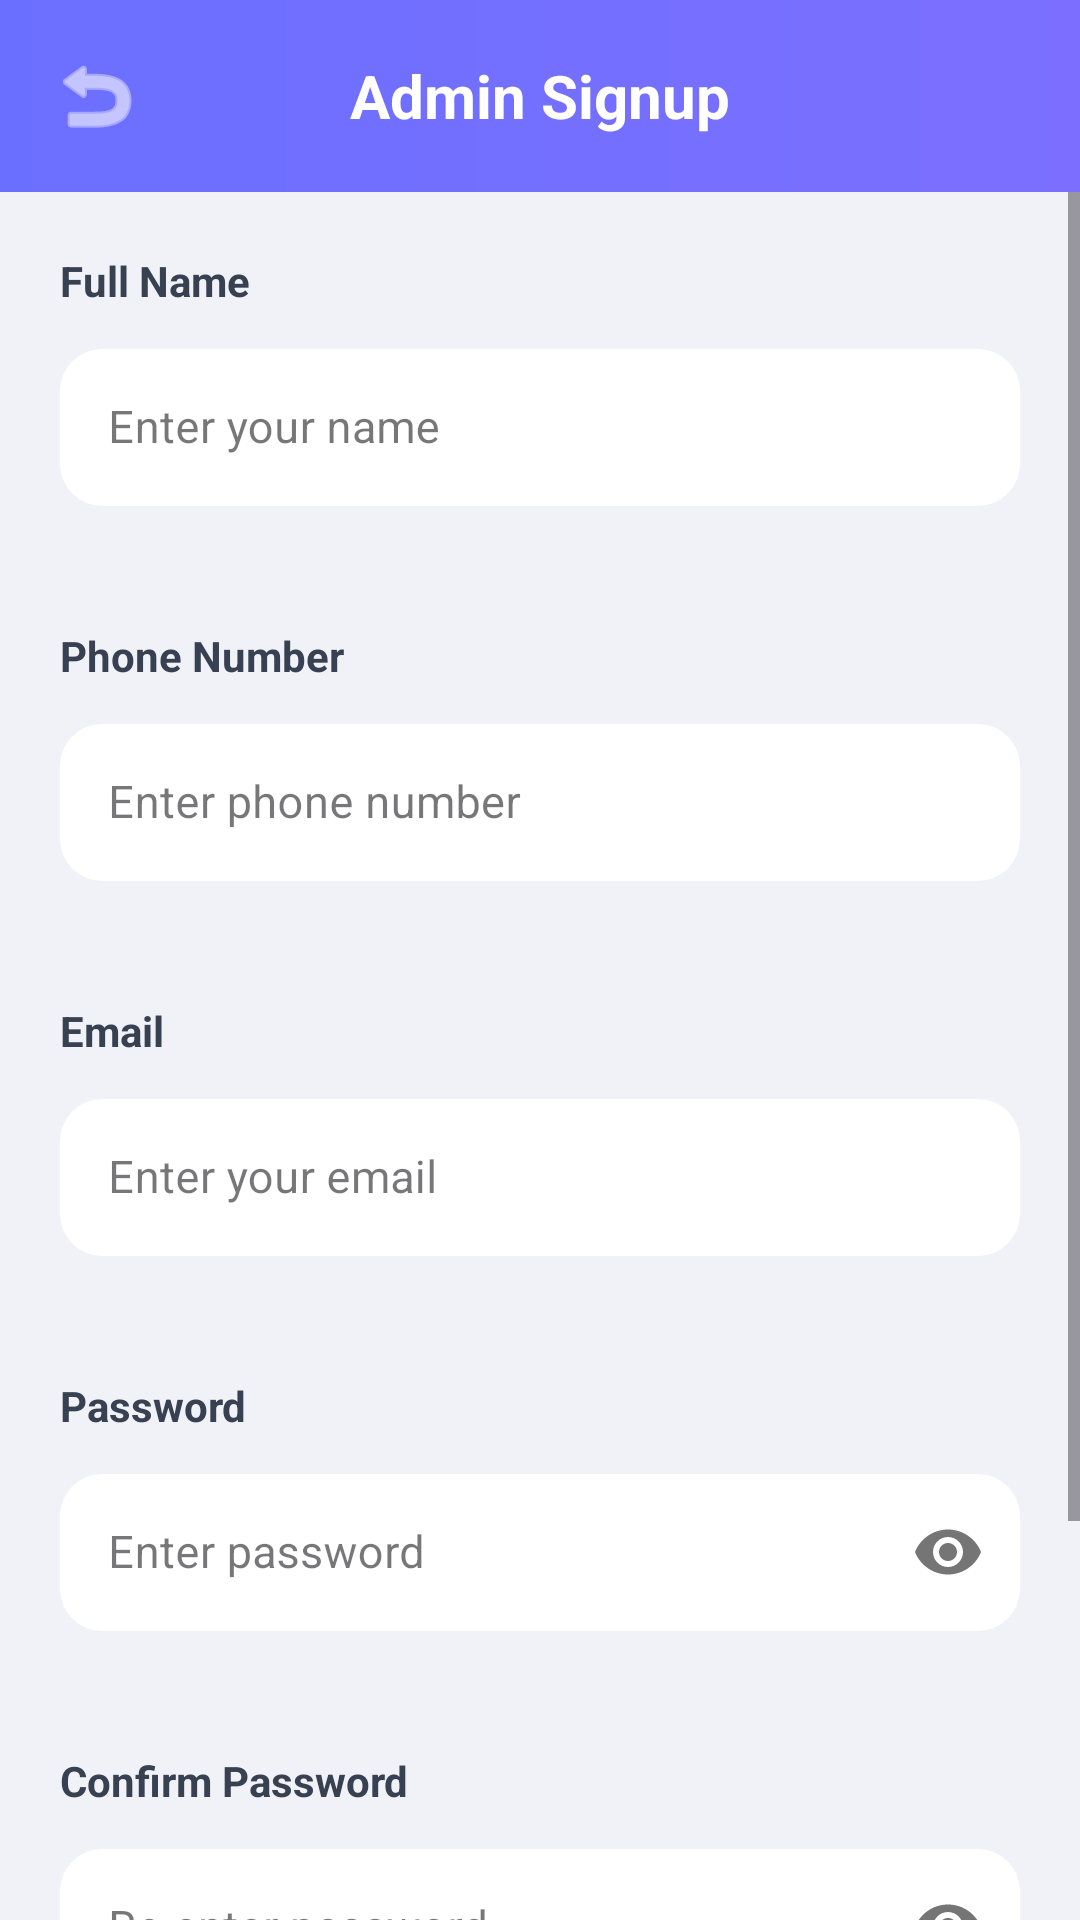

Named icons in this screenshot (1080 x 1920) and their bounding boxes, region(x1, y1, x2, y2):
Go back: region(63, 66, 132, 128)
